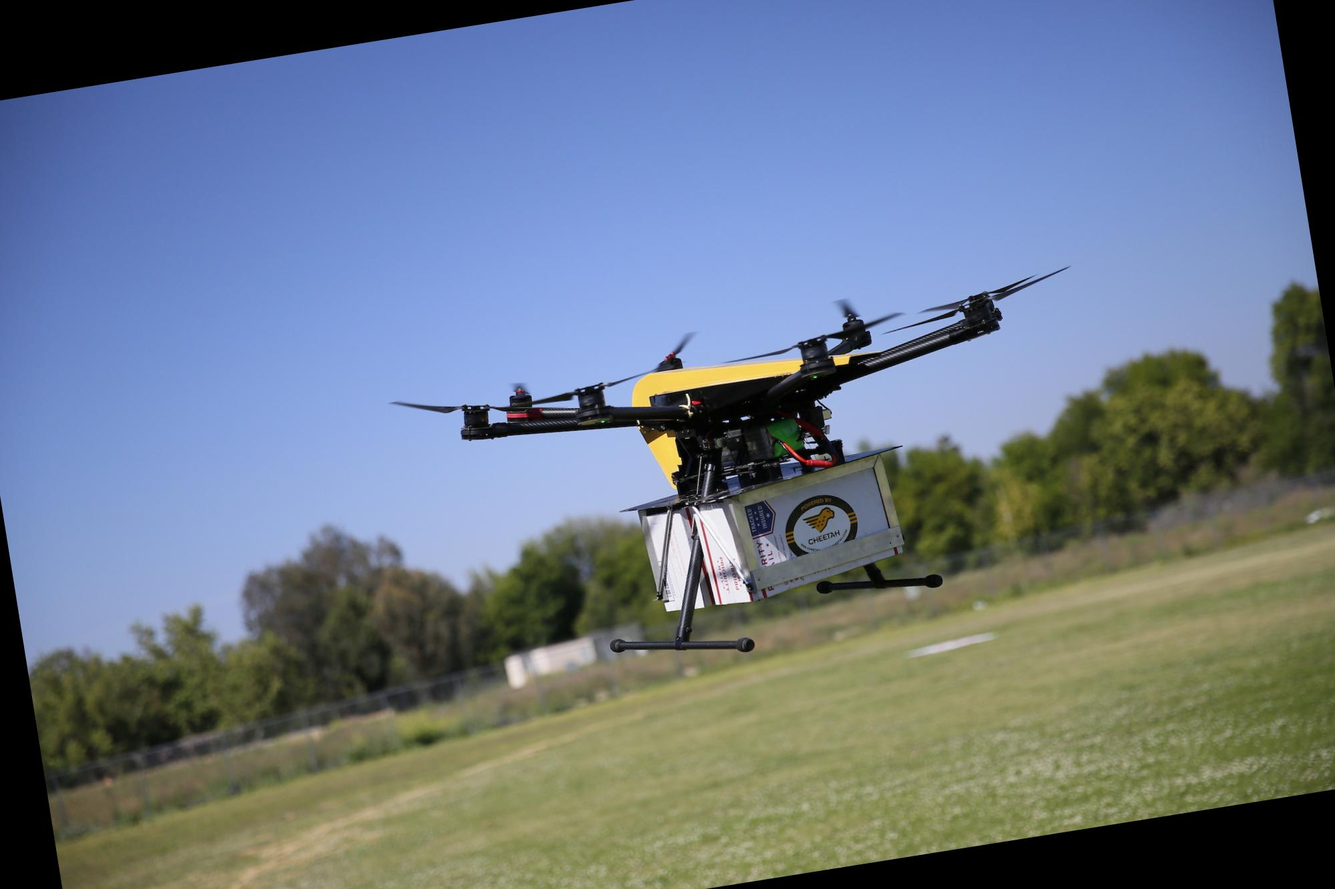drone: (361, 254, 1125, 538)
